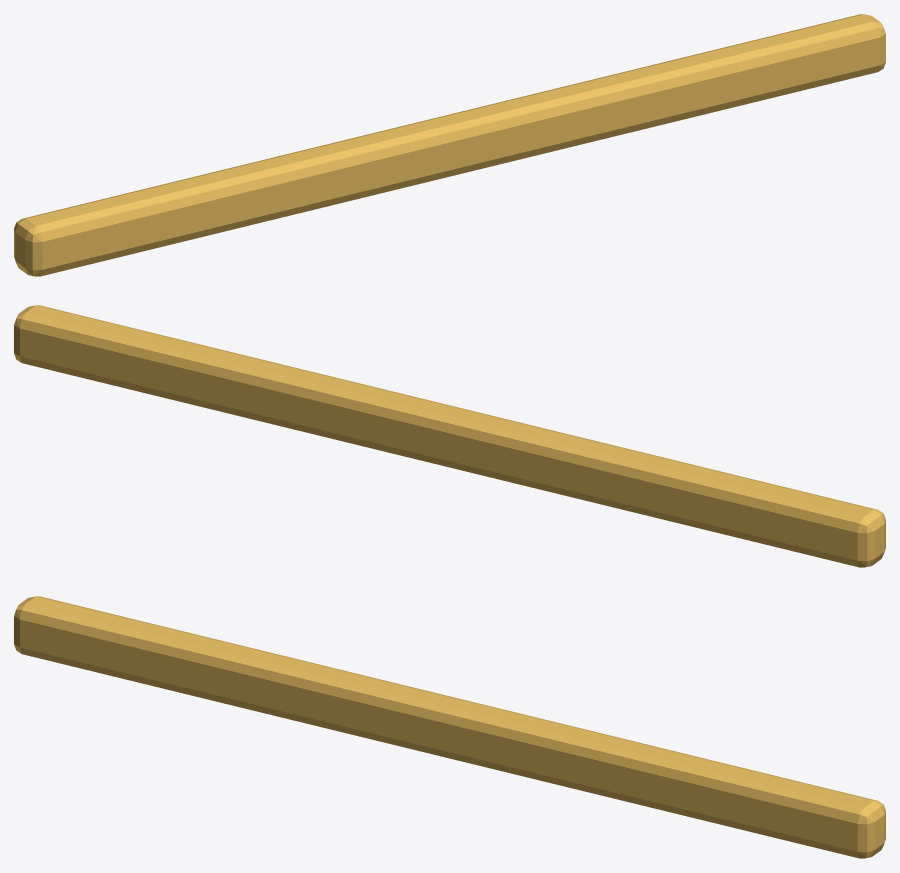
Rendered from SM_ModularShelf_FrontLip.fbx.
3 views of the same model, one above another, from view 1: azimuth 30°, elevation 25°; view 2: azimuth 150°, elevation 25°; view 3: azimuth 330°, elevation 25° (orthographic).
Parts seen in each view (by area): view 1: SM_ModularShelf_FrontLip; view 2: SM_ModularShelf_FrontLip; view 3: SM_ModularShelf_FrontLip.
Part boxes in pixels (left/top/right/bottom): SM_ModularShelf_FrontLip: left=14, top=14, right=885, bottom=276; SM_ModularShelf_FrontLip: left=14, top=305, right=885, bottom=567; SM_ModularShelf_FrontLip: left=14, top=596, right=885, bottom=858.
Size of the model in its own units: 3.55 by 0.2 by 0.16.
